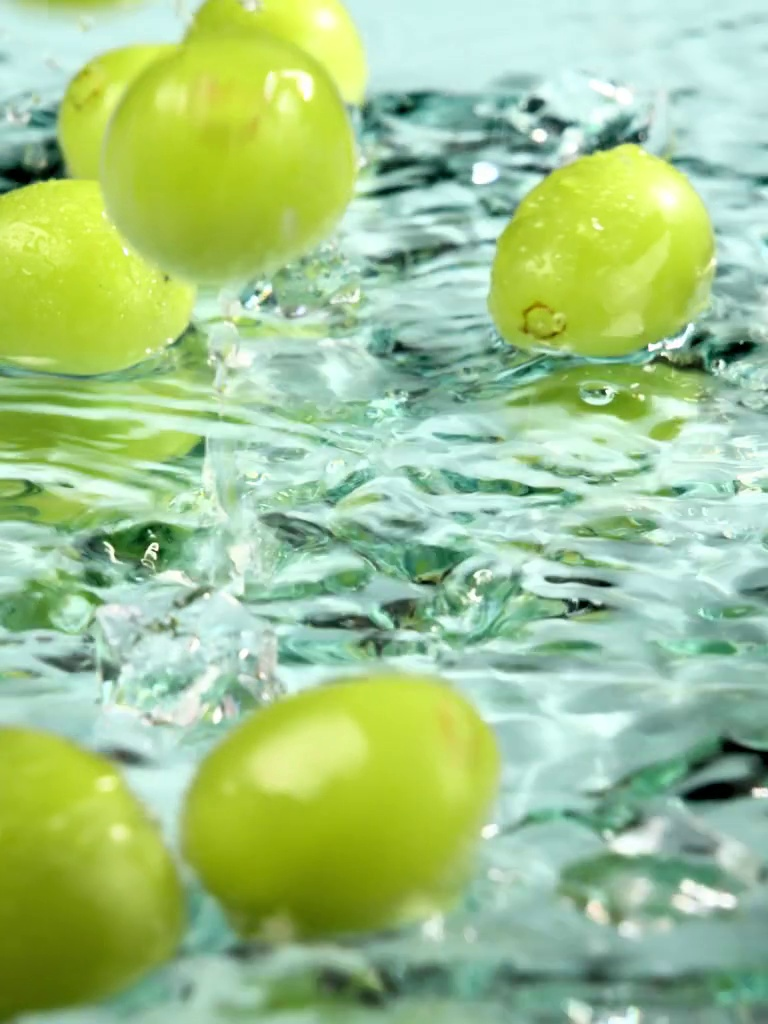grape: (196, 673, 495, 933), (106, 38, 355, 279), (488, 142, 713, 354)
